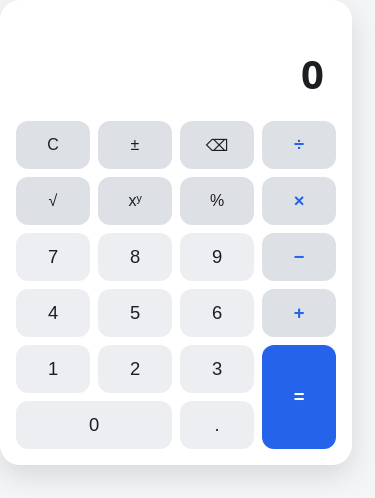
Test: Calculator › edits the entry with decimal, sign toggle and backspace
Click the button "1" at point(53, 369), box [16,345,90,393]
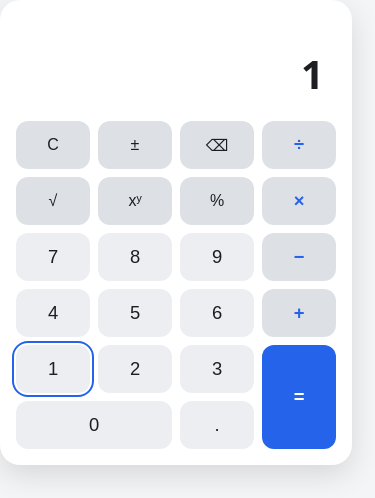
Click the button named "decimal" at point(217, 425), box [180,401,254,449]
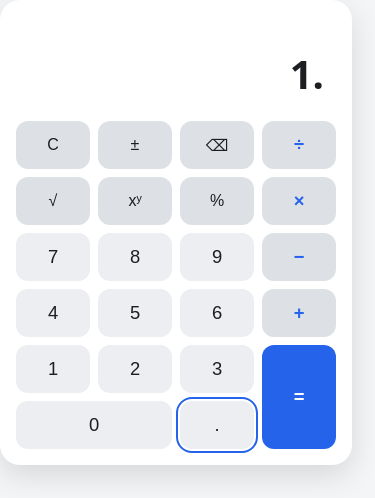
Click the button "5" at point(135, 313), box [98,289,172,337]
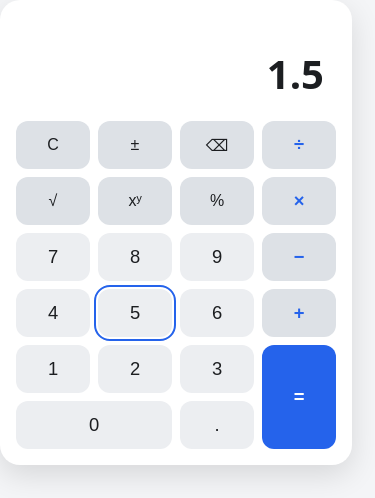
Check: the message reads "1.5", box [267,46,324,101]
Click the button named "toggle sign" at point(135, 145), box [98,121,172,169]
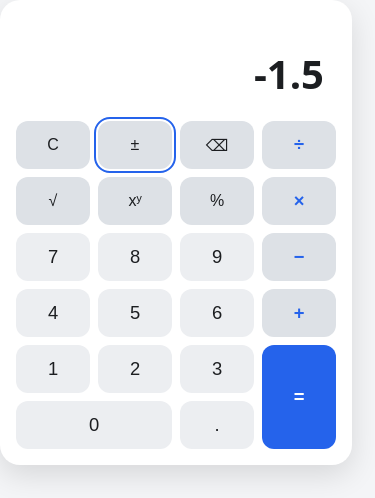
Check: the message reads "-1.5", box [254,46,324,101]
Click the button named "backspace" at point(217, 145), box [180,121,254,169]
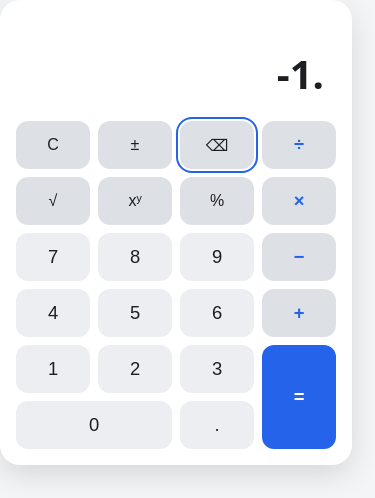
Check: the message reads "-1.", box [277,46,324,101]
